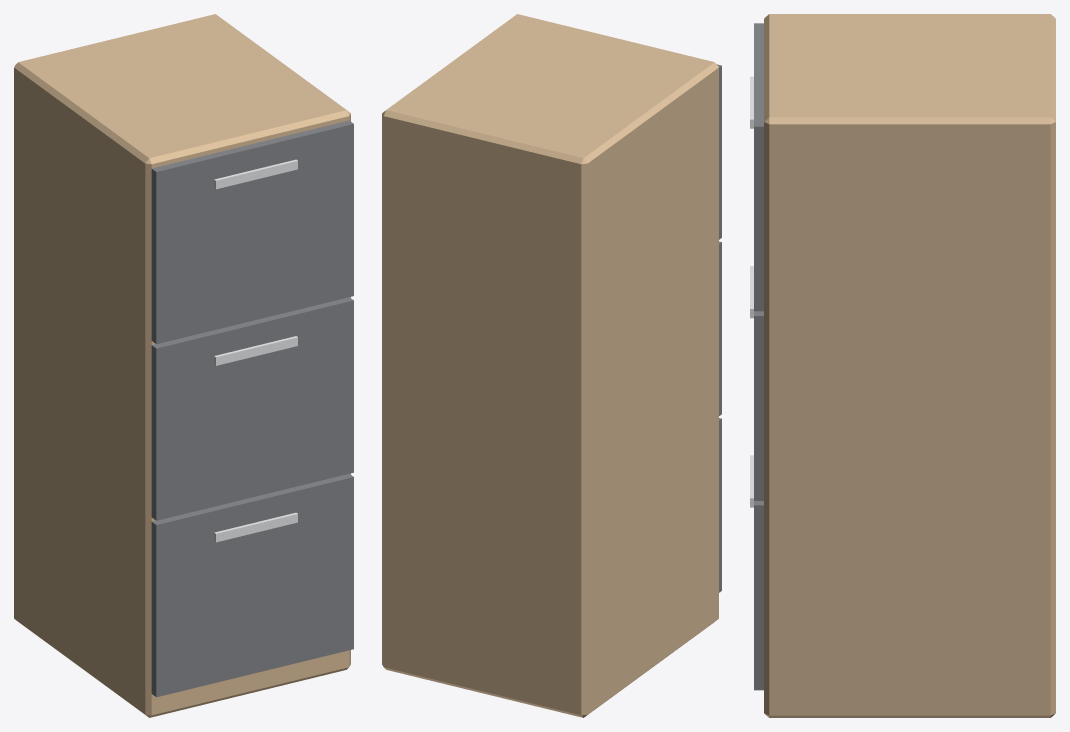
Rendered from filing_cabinet.glb.
3 renders of one model, left to right at view 1: azimuth 30°, elevation 25°; view 2: azimuth 150°, elevation 25°; view 3: azimuth 270°, elevation 25°, orthographic. The views are drawn at different scales.
Visible parts, largest first — view 1: filing_cabinet; view 2: filing_cabinet; view 3: filing_cabinet.
Boxes of the visible parts, x1,y1,x2,y2 form: filing_cabinet: (14, 14, 353, 717); filing_cabinet: (382, 14, 721, 717); filing_cabinet: (750, 14, 1055, 717).
Bounding box in the file's own units: 0.5 × 1.3 × 0.6.
